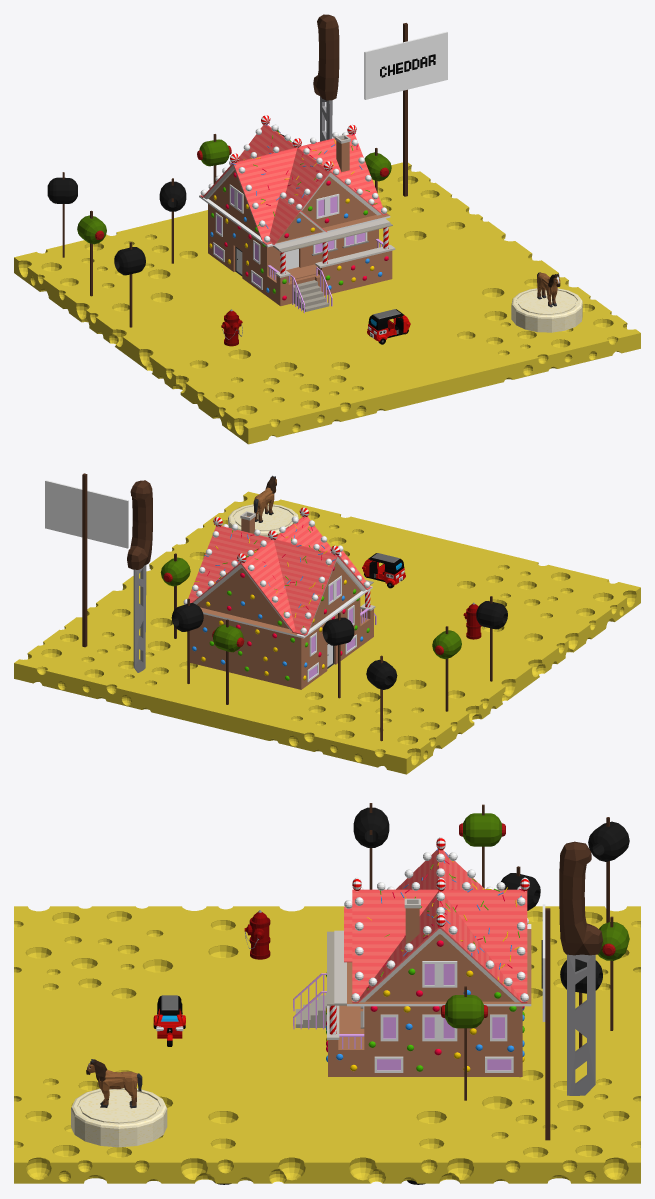
3 views of the same model, one above another, from view 1: azimuth 30°, elevation 25°; view 2: azimuth 150°, elevation 25°; view 3: azimuth 270°, elevation 25° (orthographic). The views are drawn at different scales.
Parts seen in each view (by area): view 1: Cube.022, Cube.1203, Cube.023, Cylinder.016, Cube.024, VEHICLES_TUC_TUC, Sphere.017, Sphere.016, Sphere.020, Sphere.018, Sphere.022, Sphere.019 (+1 smaller); view 2: Cube.022, Cube.1203, Cube.023, Cube.024, Cylinder.016, VEHICLES_TUC_TUC, Sphere.017, Sphere.020, Sphere.021, Sphere.016, Sphere.018, Sphere.022 (+3 smaller); view 3: Cube.022, Cube.1203, Cube.024, Cylinder.016, Cube.023, Sphere.019, Sphere.016, Sphere.018, Sphere.017, ANIMAL_CABALLO, VEHICLES_TUC_TUC, Sphere.022 (+3 smaller).
Boxes of the visible parts, x1,y1,x2,y2 form: Cube.022: (14, 162, 640, 444); Cube.1203: (199, 115, 395, 313); Cube.023: (364, 23, 447, 196); Cylinder.016: (511, 288, 582, 332); Cube.024: (313, 14, 339, 141); VEHICLES_TUC_TUC: (367, 309, 410, 344); Sphere.017: (114, 242, 145, 327); Sphere.016: (47, 172, 77, 257); Sphere.020: (159, 178, 186, 263); Sphere.018: (77, 210, 106, 296); Sphere.022: (197, 134, 231, 183); Sphere.019: (364, 148, 391, 192); Cube.022: (14, 491, 640, 774); Cube.1203: (183, 507, 376, 689); Cube.023: (45, 473, 128, 647); Cube.024: (127, 480, 152, 672); Cylinder.016: (228, 503, 298, 537); VEHICLES_TUC_TUC: (362, 553, 405, 588); Sphere.017: (476, 596, 507, 681); Sphere.020: (322, 612, 354, 698); Sphere.021: (171, 598, 203, 683); Sphere.016: (366, 655, 397, 741); Sphere.018: (432, 626, 461, 711); Sphere.022: (212, 619, 244, 704); Cube.022: (14, 906, 640, 1183); Cube.1203: (293, 837, 531, 1076); Cube.024: (559, 841, 602, 1095); Cylinder.016: (71, 1088, 167, 1147); Cube.023: (541, 904, 550, 1140); Sphere.019: (441, 986, 487, 1100); Sphere.016: (588, 817, 629, 922); Sphere.018: (459, 804, 505, 887); Sphere.017: (353, 803, 389, 889); ANIMAL_CABALLO: (86, 1059, 142, 1108); VEHICLES_TUC_TUC: (153, 995, 185, 1046); Sphere.022: (598, 916, 629, 1030).
Bounding box in the file's own units: 3917 × 1985 × 4000.
Materials: 48 (4 with a texture image).
